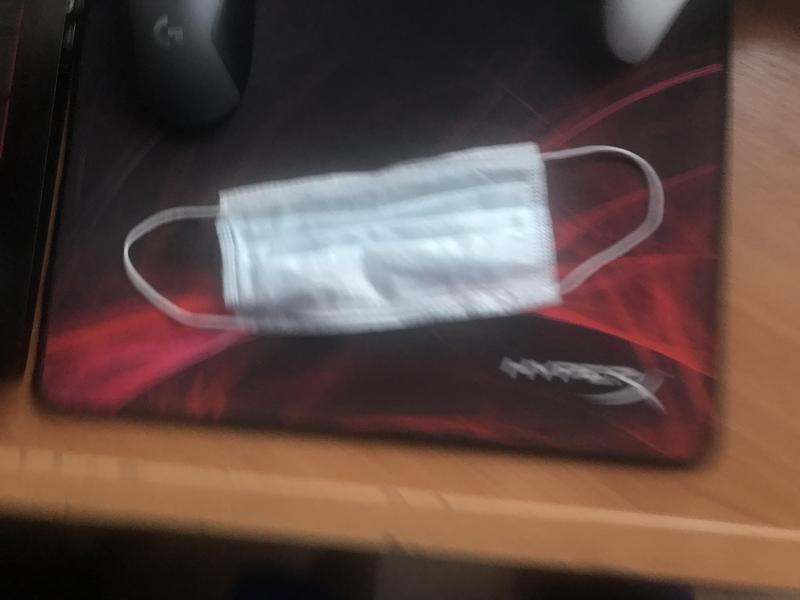medical_mask: (122, 142, 661, 333)
